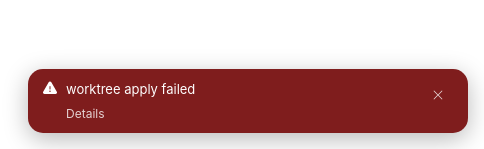
Scenario: Toasts details disclosure (G36 余项) › keeps stderr out of the sentence but one tap away
Check: the text "worktree apply failed" is shown, box 66,81 -> 195,97
Click the heading "Details": [85, 113] box 66,106 -> 104,121
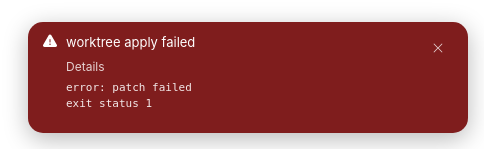
Check: the text "error: patch failed exit status 1" is shown, box 66,81 -> 192,110
